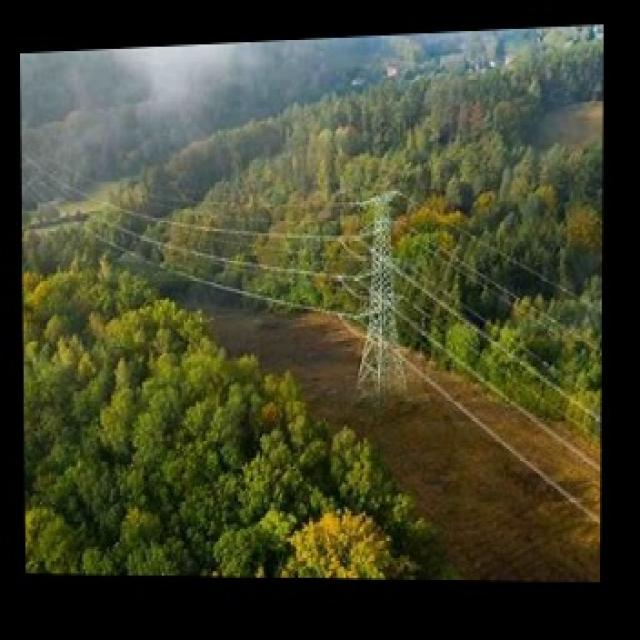utility poles: (344, 167, 436, 406)
